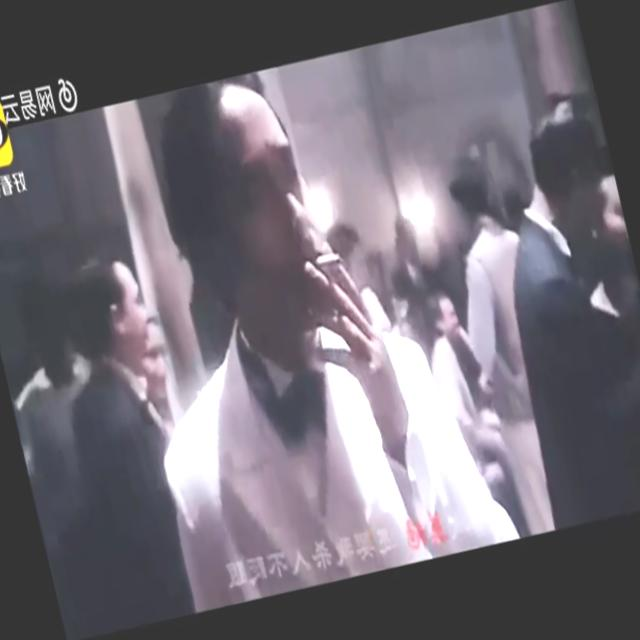smoke: (312, 247, 350, 274)
